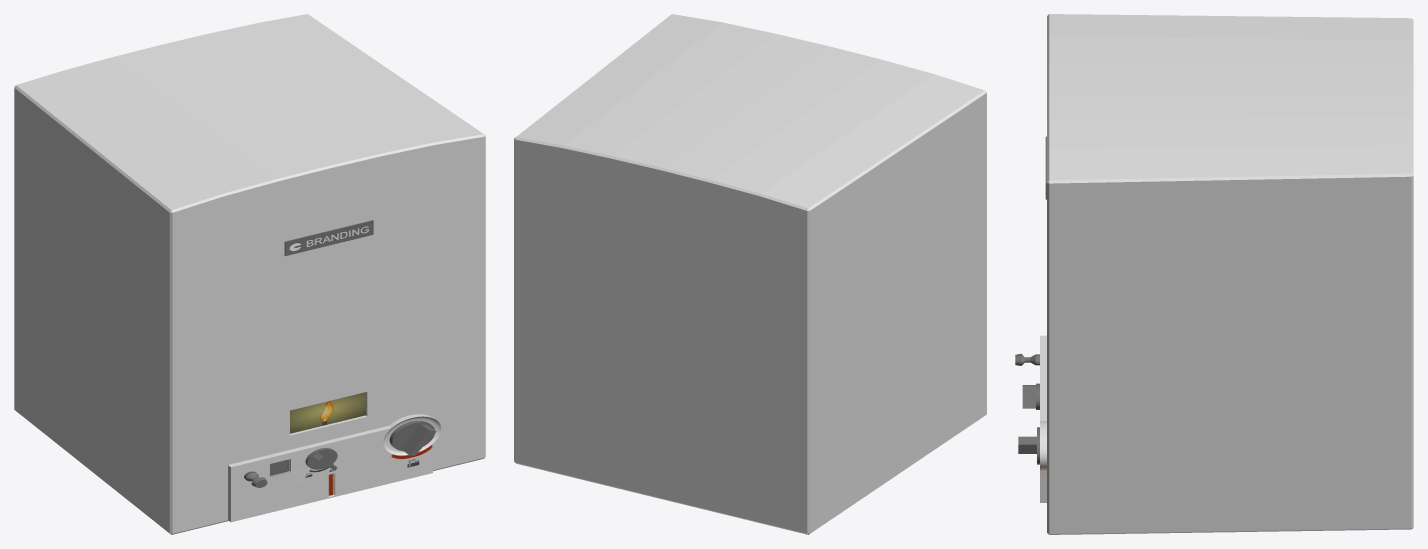
File: sh-scopia-gaz-water-heater.glb
3 renders of one model, left to right at view 1: azimuth 30°, elevation 25°; view 2: azimuth 150°, elevation 25°; view 3: azimuth 270°, elevation 25°, orthographic. The views are drawn at different scales.
Visible parts, largest first — view 1: Cube, Cube.002, Cube.004_Cube.007; view 2: Cube; view 3: Cube, Cube.002, Cube.004_Cube.007.
Part boxes in pixels (bbox=[...]): Cube: bbox=[14, 14, 485, 534]; Cube.002: bbox=[228, 220, 441, 522]; Cube.004_Cube.007: bbox=[244, 420, 436, 487]; Cube: bbox=[514, 14, 986, 534]; Cube: bbox=[1047, 14, 1413, 534]; Cube.002: bbox=[1040, 136, 1046, 502]; Cube.004_Cube.007: bbox=[1015, 353, 1039, 464].
Size of the model in its own units: 1 by 1 by 1.
Materials: 3 (2 with a texture image).
